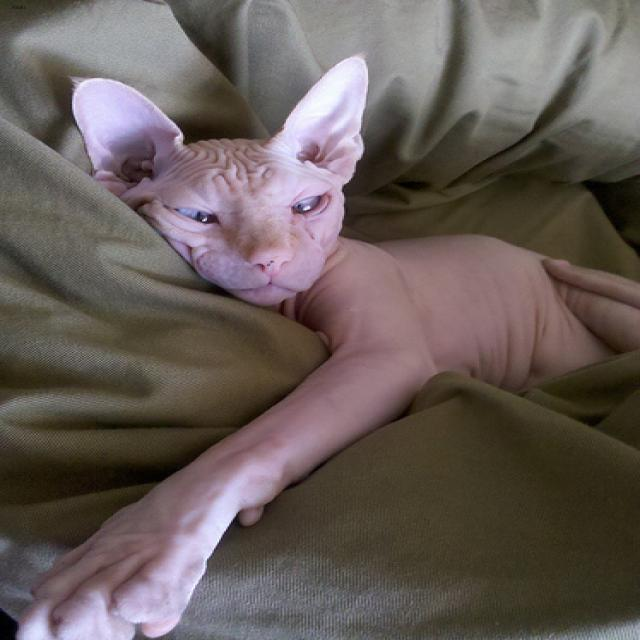Sphynx: (60, 50, 380, 310)
